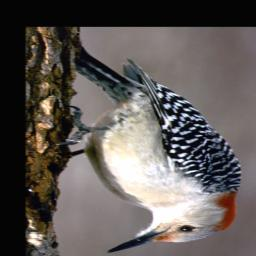Woodpecker: (58, 57, 243, 254)
